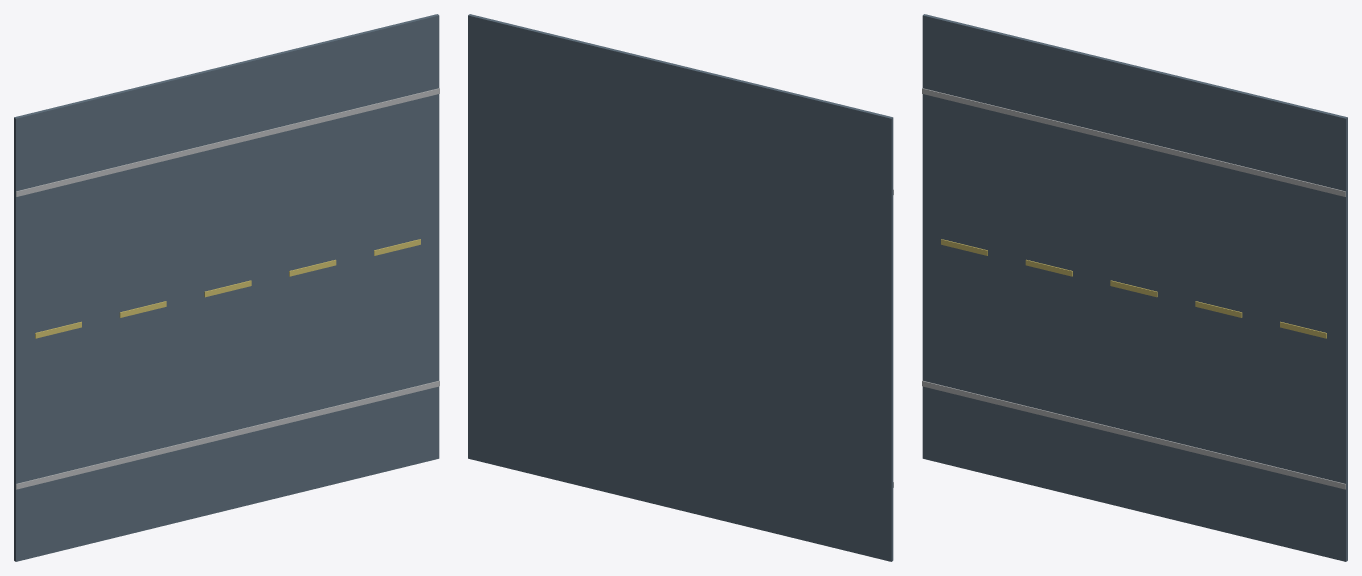
The model's file is road-straight.glb.
The picture shows the model from 3 angles, left to right: view 1: azimuth 30°, elevation 25°; view 2: azimuth 150°, elevation 25°; view 3: azimuth 330°, elevation 25°; orthographic projection.
Parts seen in each view (by area): view 1: world; view 2: world; view 3: world.
Part boxes in pixels (bbox=[...]): world: bbox=[14, 14, 439, 561]; world: bbox=[468, 14, 893, 561]; world: bbox=[922, 14, 1347, 561].
Bounding box in the file's own units: 10 × 10 × 0.1.
